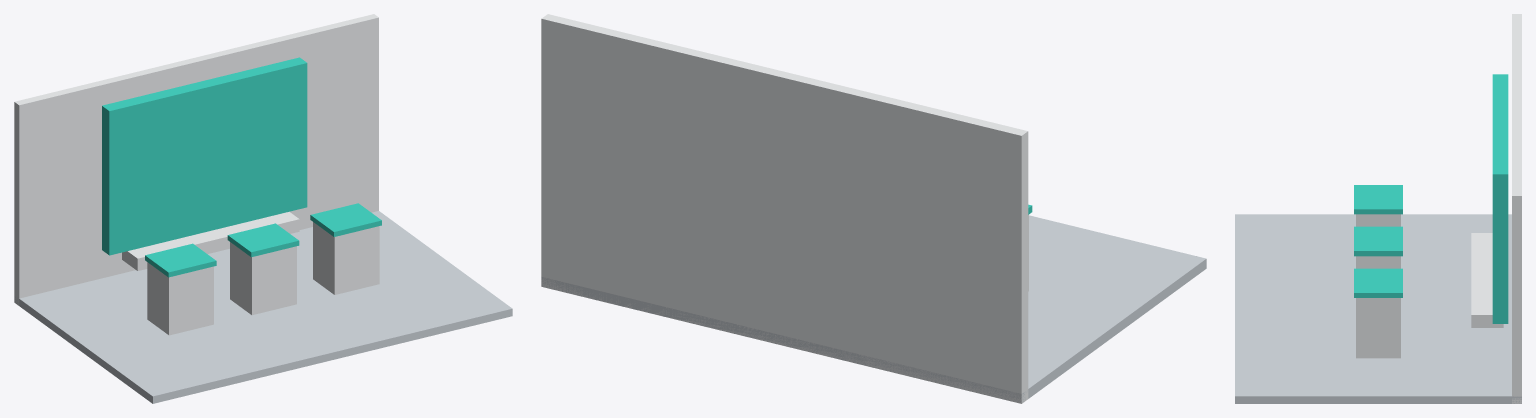
3 renders of one model, left to right at view 1: azimuth 30°, elevation 25°; view 2: azimuth 150°, elevation 25°; view 3: azimuth 270°, elevation 25°, orthographic. The views are drawn at different scales.
Parts seen in each view (by area): view 1: Exhibition Booth Concept; view 2: Exhibition Booth Concept; view 3: Exhibition Booth Concept.
Part boxes in pixels (bbox=[...]): Exhibition Booth Concept: bbox=[14, 14, 512, 403]; Exhibition Booth Concept: bbox=[541, 14, 1206, 403]; Exhibition Booth Concept: bbox=[1235, 14, 1521, 403].
Size of the model in its own units: 6 by 3.2 by 4.
